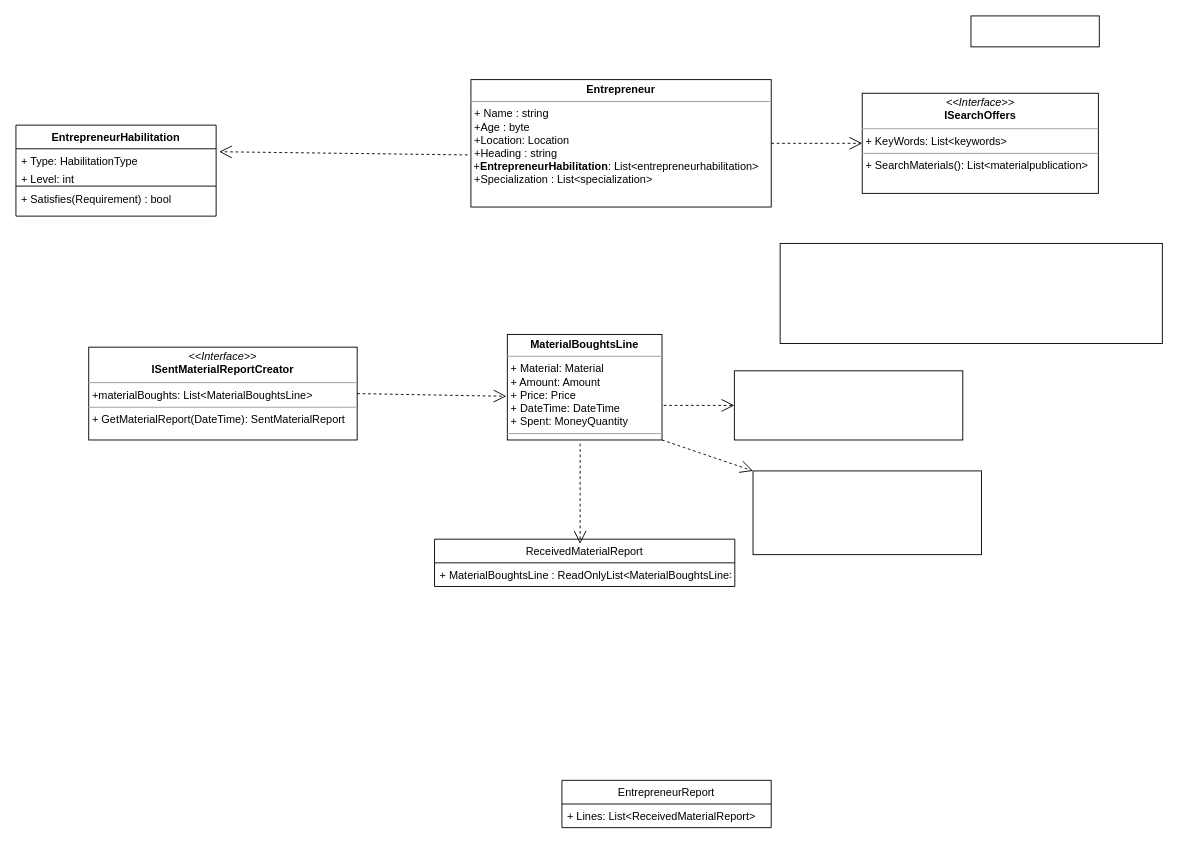
Some shapes in this 1178 by 846 pixel diagram are drawn without their labels. Here are the shapes that lost their labels. From the top down, the centre of each, then its label:
[1034,31]: MaterialPublication...
[970,293]: SearchLocation + + SearchLocation(materialpublication): List<materials>
[848,405]: MoneyQuantity + Quantity: float + Currency: Currency
[866,512]: MoneyQuantityUtils + Calculate(Amount, Price): MoneyQuantity?
